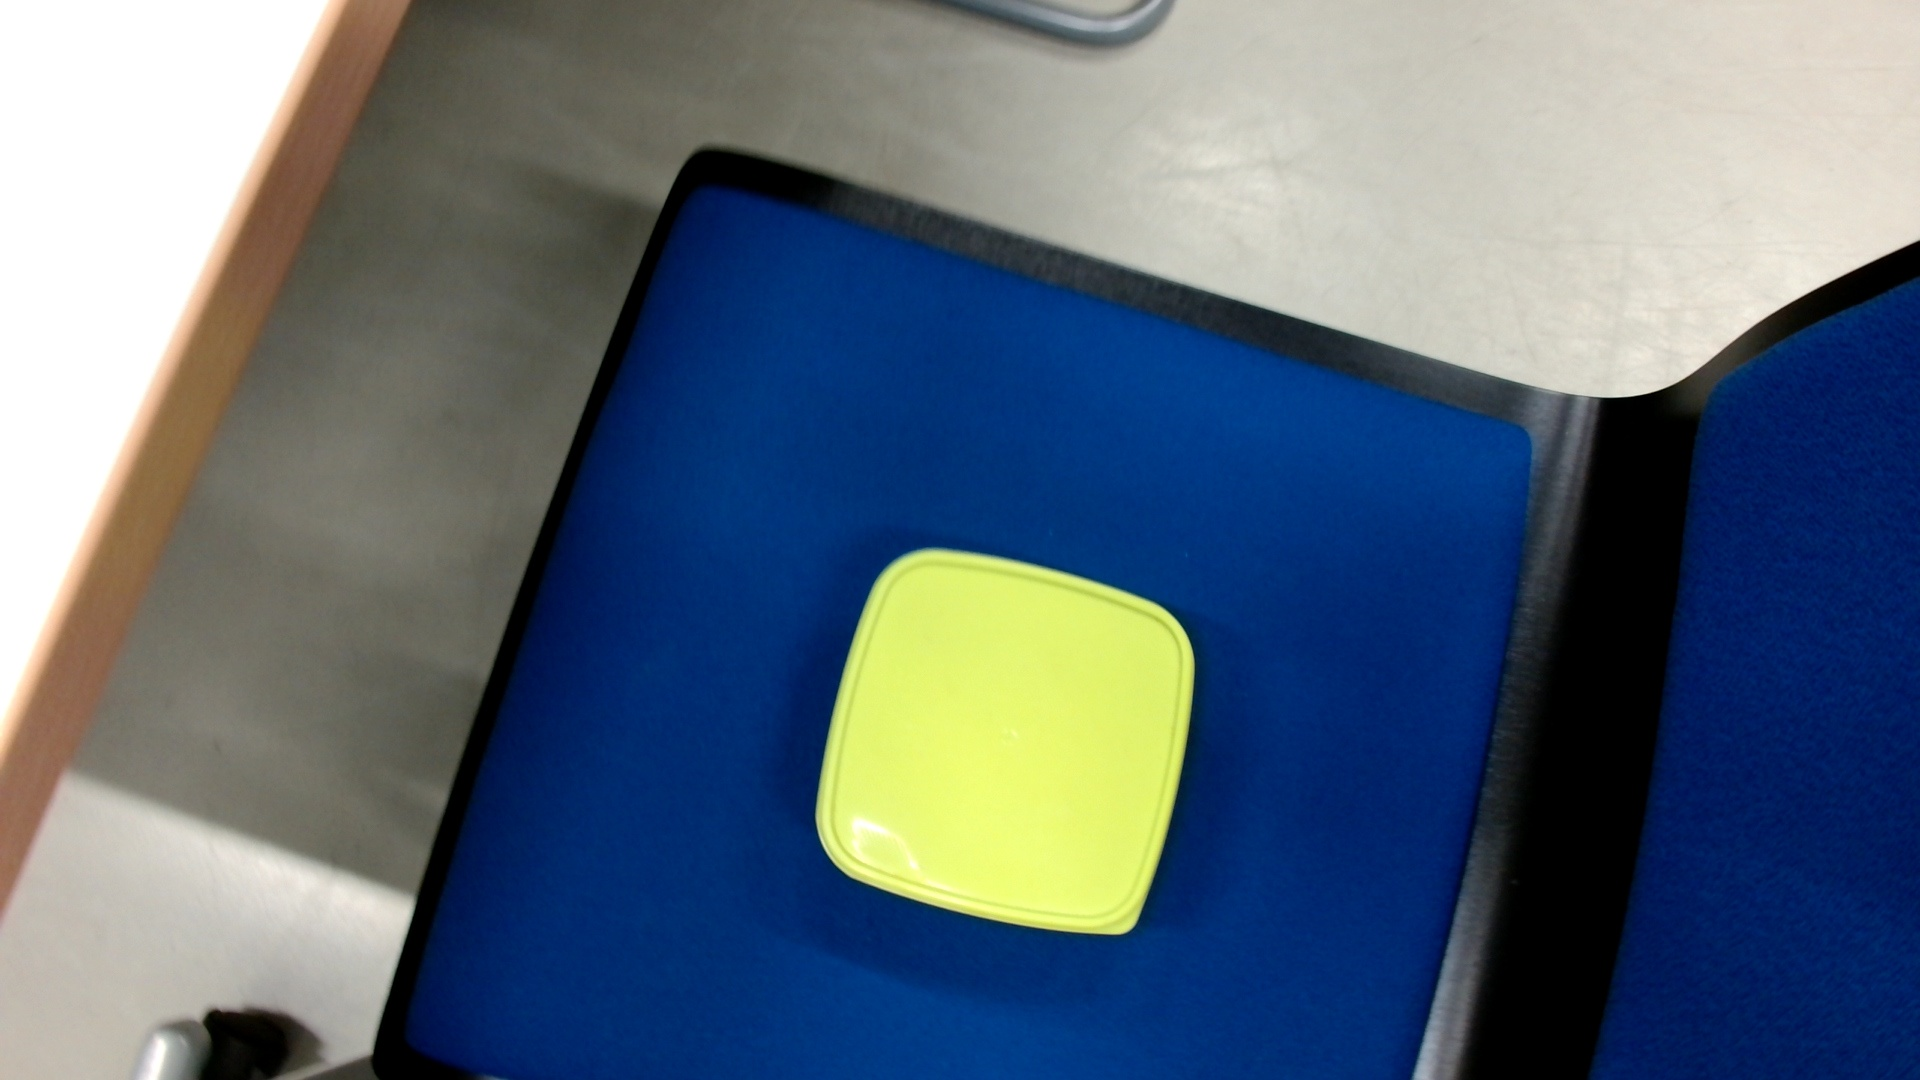Box: (802, 530, 1204, 952)
